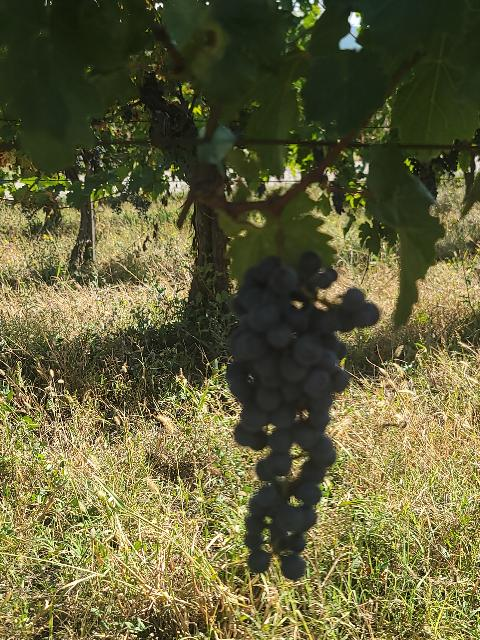grapes: (226, 251, 379, 579)
